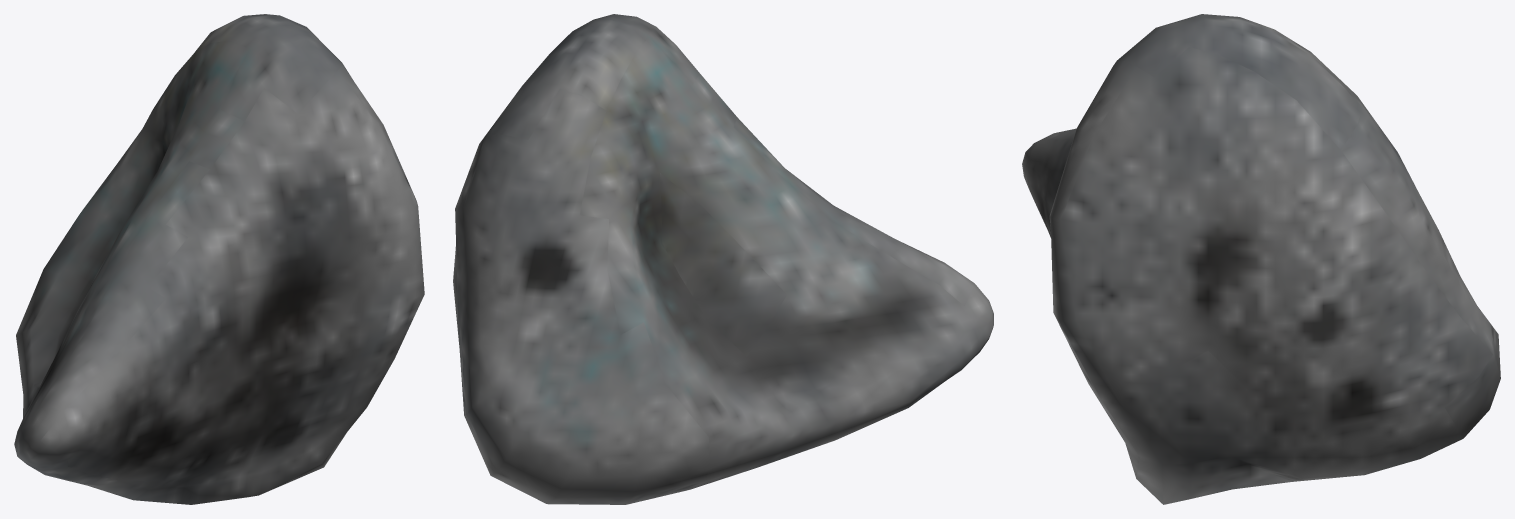
File: meteor4.FBX
3 views of the same model, side by side, from view 1: azimuth 30°, elevation 25°; view 2: azimuth 150°, elevation 25°; view 3: azimuth 270°, elevation 25° (orthographic). The views are drawn at different scales.
Parts seen in each view (by area): view 1: ZBrush_defualt_group; view 2: ZBrush_defualt_group; view 3: ZBrush_defualt_group.
Part boxes in pixels (x1=…): ZBrush_defualt_group: x1=14, y1=14, x2=424, y2=504; ZBrush_defualt_group: x1=453, y1=14, x2=993, y2=504; ZBrush_defualt_group: x1=1022, y1=14, x2=1500, y2=504.
Size of the model in its own units: 1.79 by 1.79 by 1.61.
